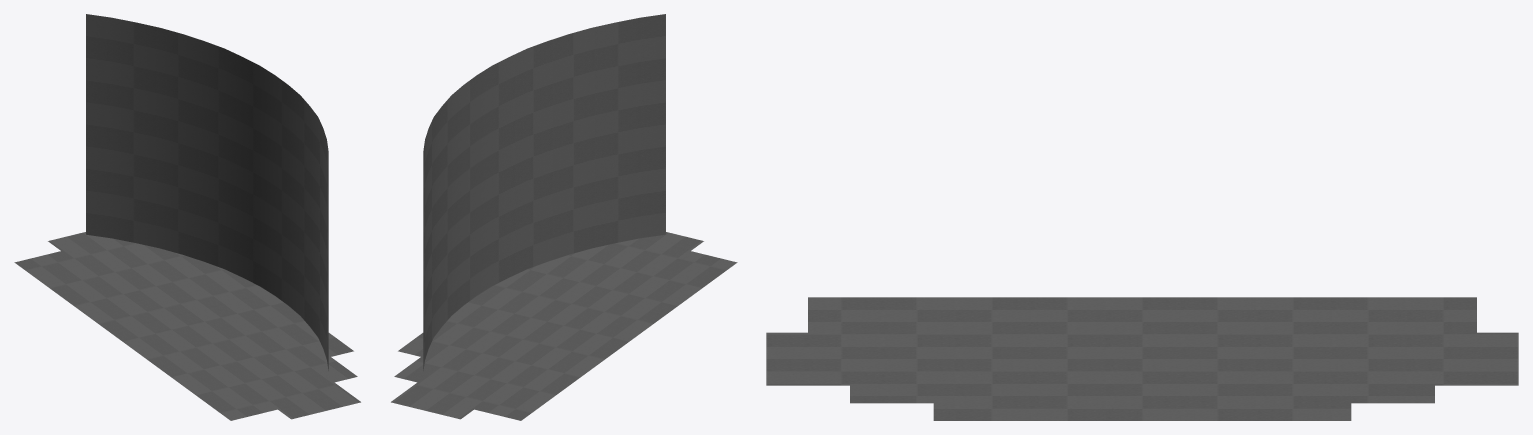
File: wall0.glb
The picture shows the model from 3 angles, left to right: view 1: azimuth 30°, elevation 25°; view 2: azimuth 150°, elevation 25°; view 3: azimuth 270°, elevation 25°; orthographic projection. The views are drawn at different scales.
Parts seen in each view (by area): view 1: ASU_Stage3_Wall, ASU_Stage3_Floor; view 2: ASU_Stage3_Wall, ASU_Stage3_Floor; view 3: ASU_Stage3_Floor.
Part boxes in pixels (x1=…): ASU_Stage3_Wall: x1=86, y1=14, x2=328, y2=370; ASU_Stage3_Floor: x1=14, y1=232, x2=360, y2=420; ASU_Stage3_Wall: x1=423, y1=14, x2=665, y2=370; ASU_Stage3_Floor: x1=391, y1=232, x2=737, y2=420; ASU_Stage3_Floor: x1=766, y1=297, x2=1518, y2=420.
Size of the model in its own units: 3.5 by 4.54 by 9.
1 material, 1 textured.
